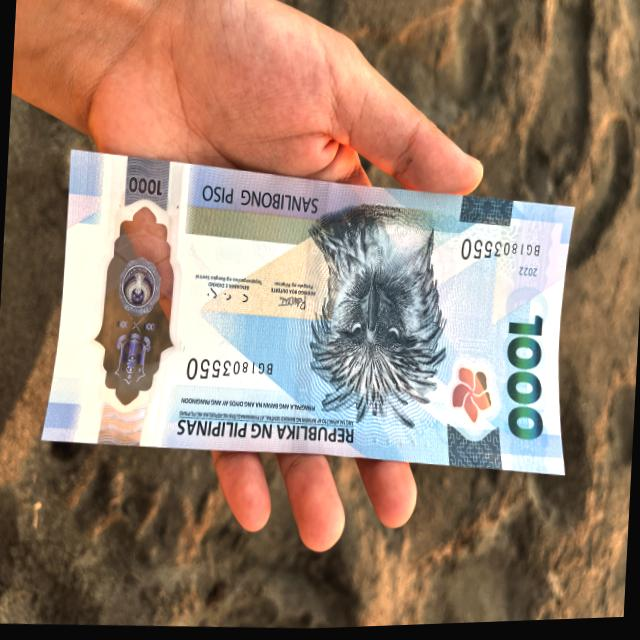clear_window: (68, 145, 202, 450)
eagle: (300, 204, 468, 431)
sampaguita: (447, 355, 503, 432)
